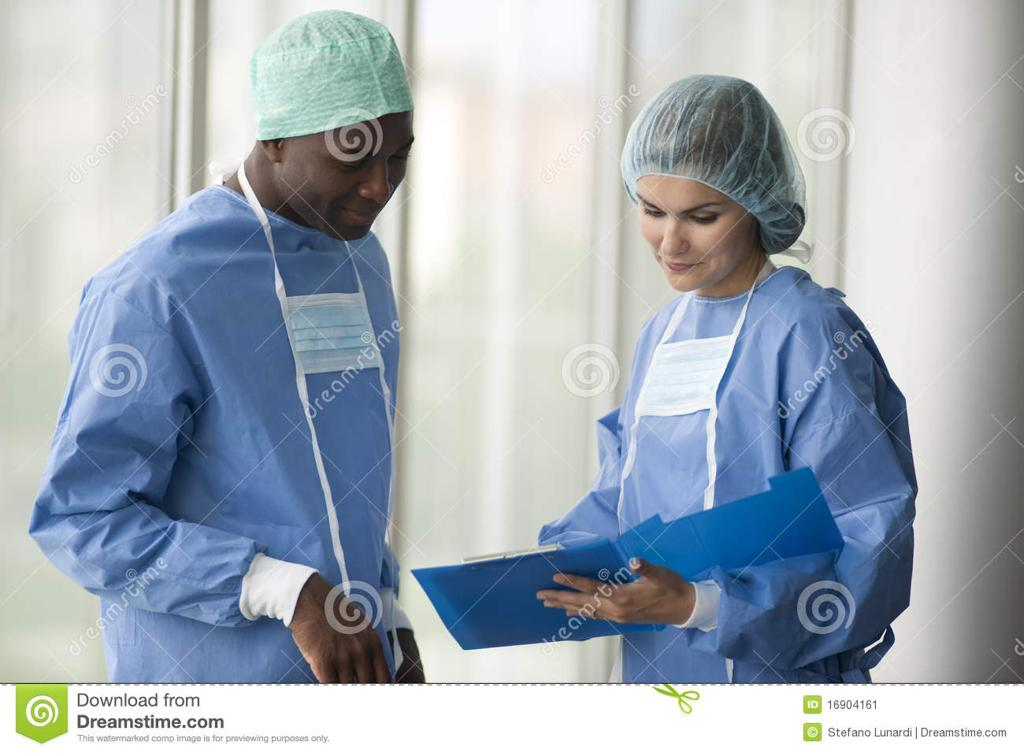face: (290, 108, 416, 238), (636, 168, 758, 296)
